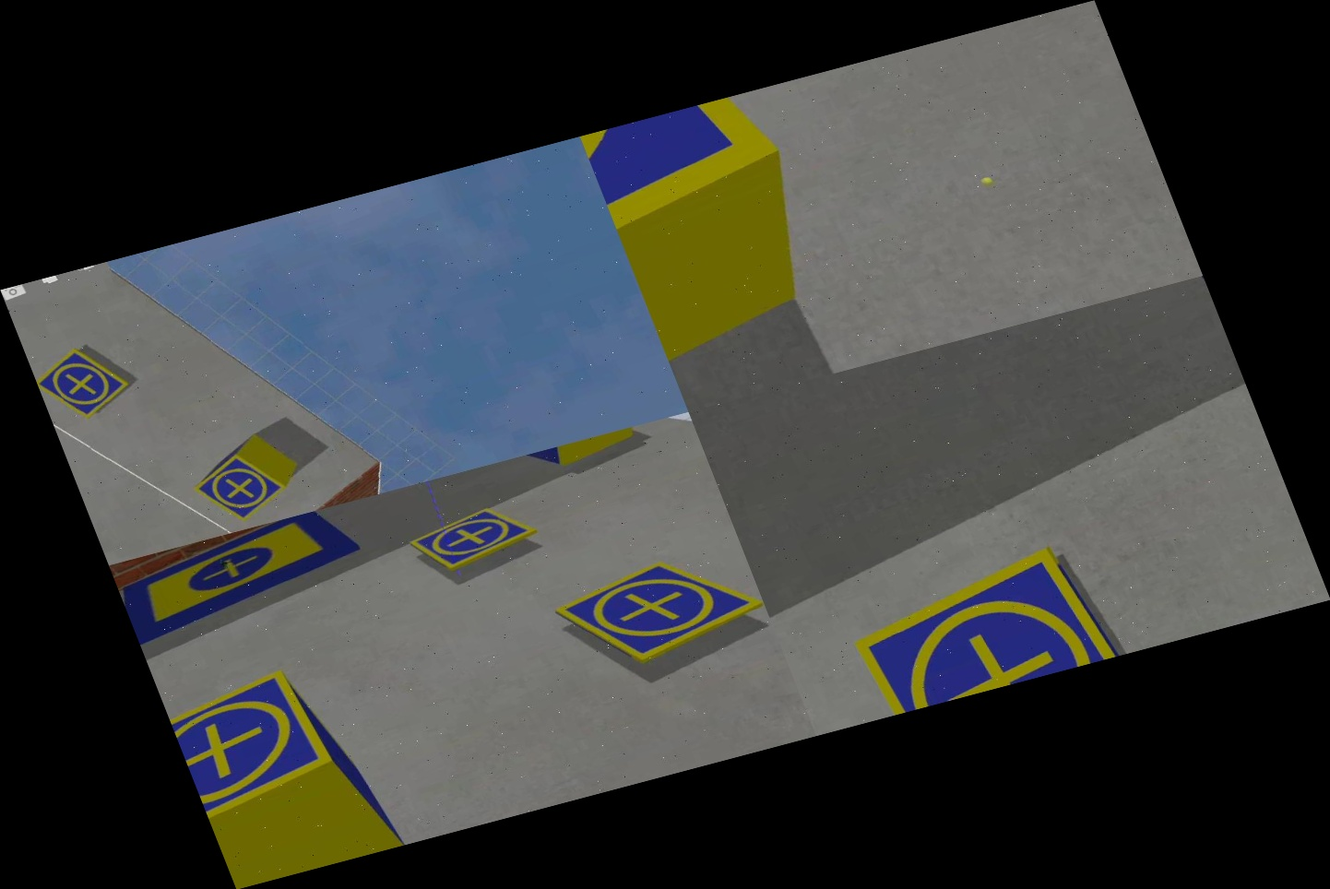large_base: (109, 502, 379, 646)
small_base: (580, 87, 841, 324), (826, 527, 1145, 719), (547, 535, 775, 682), (161, 662, 351, 833), (403, 495, 544, 580), (28, 335, 143, 429), (185, 442, 298, 531)
